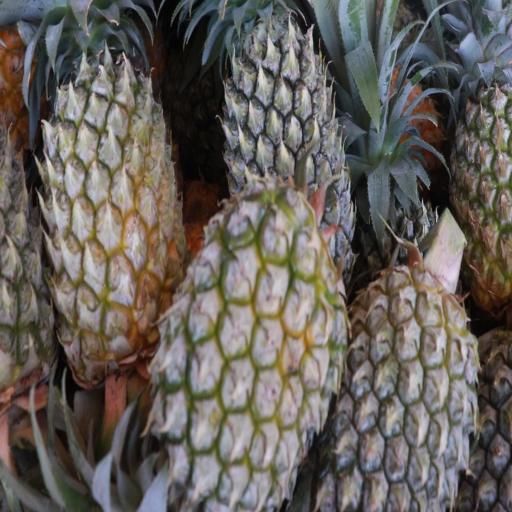------------------------------: (153, 191, 331, 512), (41, 0, 176, 367)
